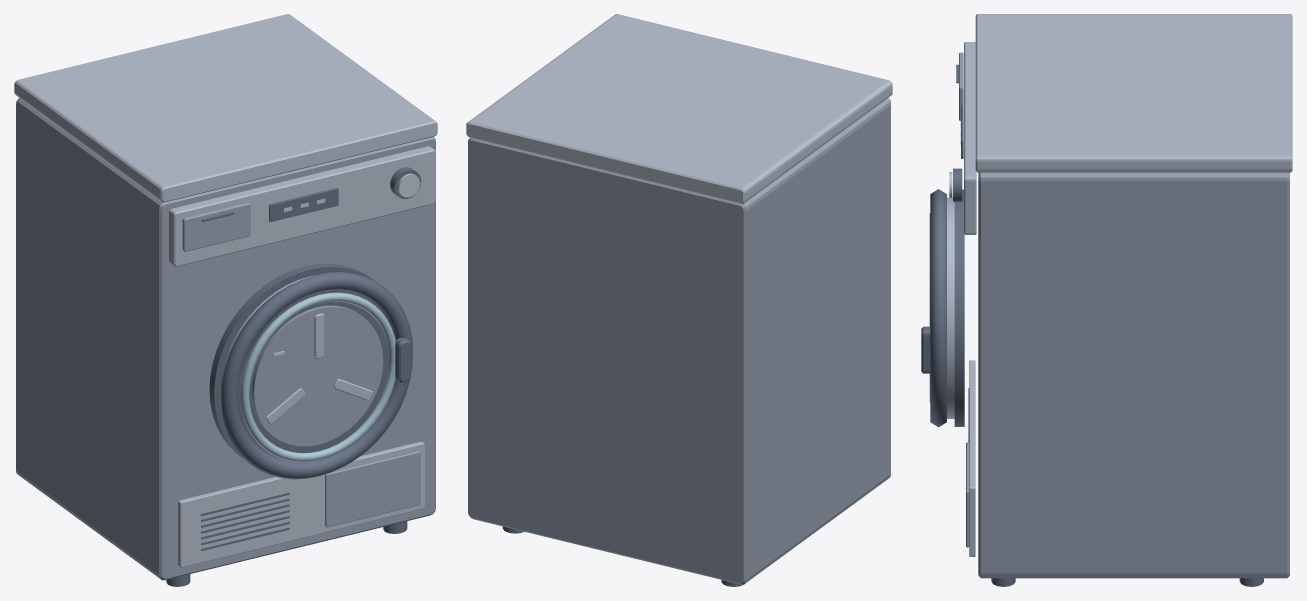
File: dryer.glb
The picture shows the model from 3 angles, left to right: view 1: azimuth 30°, elevation 25°; view 2: azimuth 150°, elevation 25°; view 3: azimuth 270°, elevation 25°; orthographic projection. The views are drawn at different scales.
Visible parts, largest first — view 1: body, soft, dark, glass, light; view 2: body, soft; view 3: body, soft, dark.
Part boxes in pixels (left/top/right/bottom): body: left=16, top=97, right=435, bottom=580; soft: left=14, top=14, right=437, bottom=567; dark: left=166, top=167, right=421, bottom=586; glass: left=241, top=292, right=395, bottom=461; light: left=273, top=173, right=420, bottom=356; body: left=468, top=98, right=890, bottom=584; soft: left=466, top=14, right=892, bottom=203; body: left=959, top=52, right=1289, bottom=578; soft: left=947, top=14, right=1292, bottom=556; dark: left=921, top=64, right=1263, bottom=586.
Size of the model in its own units: 0.6 by 0.85 by 0.65.
